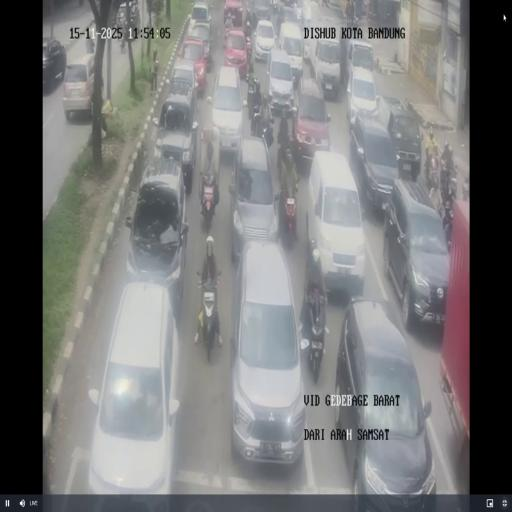car: (87, 279, 183, 502), (335, 298, 434, 506), (229, 239, 303, 463), (124, 158, 190, 313), (385, 180, 450, 329), (305, 151, 364, 297), (228, 132, 280, 262), (350, 113, 397, 215), (154, 93, 198, 190), (290, 73, 331, 168), (210, 64, 245, 157), (62, 53, 100, 122), (264, 46, 295, 114), (312, 38, 342, 98), (179, 36, 209, 94), (345, 40, 375, 98), (223, 27, 250, 79), (42, 38, 67, 93), (300, 0, 322, 59), (253, 18, 276, 62), (188, 2, 212, 42), (278, 5, 300, 37), (116, 1, 136, 28), (324, 3, 347, 24)
motorcycle: (304, 283, 329, 381), (196, 273, 224, 359), (278, 181, 300, 249), (198, 170, 219, 233), (251, 105, 273, 146), (440, 158, 457, 206), (99, 96, 115, 138), (425, 154, 440, 196), (246, 75, 260, 118), (441, 202, 454, 246), (424, 126, 439, 160), (207, 18, 218, 54), (277, 120, 290, 148), (224, 14, 233, 40), (85, 31, 95, 54), (462, 173, 470, 201), (119, 24, 126, 53), (244, 17, 252, 40), (352, 2, 360, 25), (362, 0, 371, 20), (248, 0, 256, 21), (270, 0, 279, 15), (208, 0, 214, 18), (112, 16, 118, 32)
truck: (439, 205, 470, 469)
